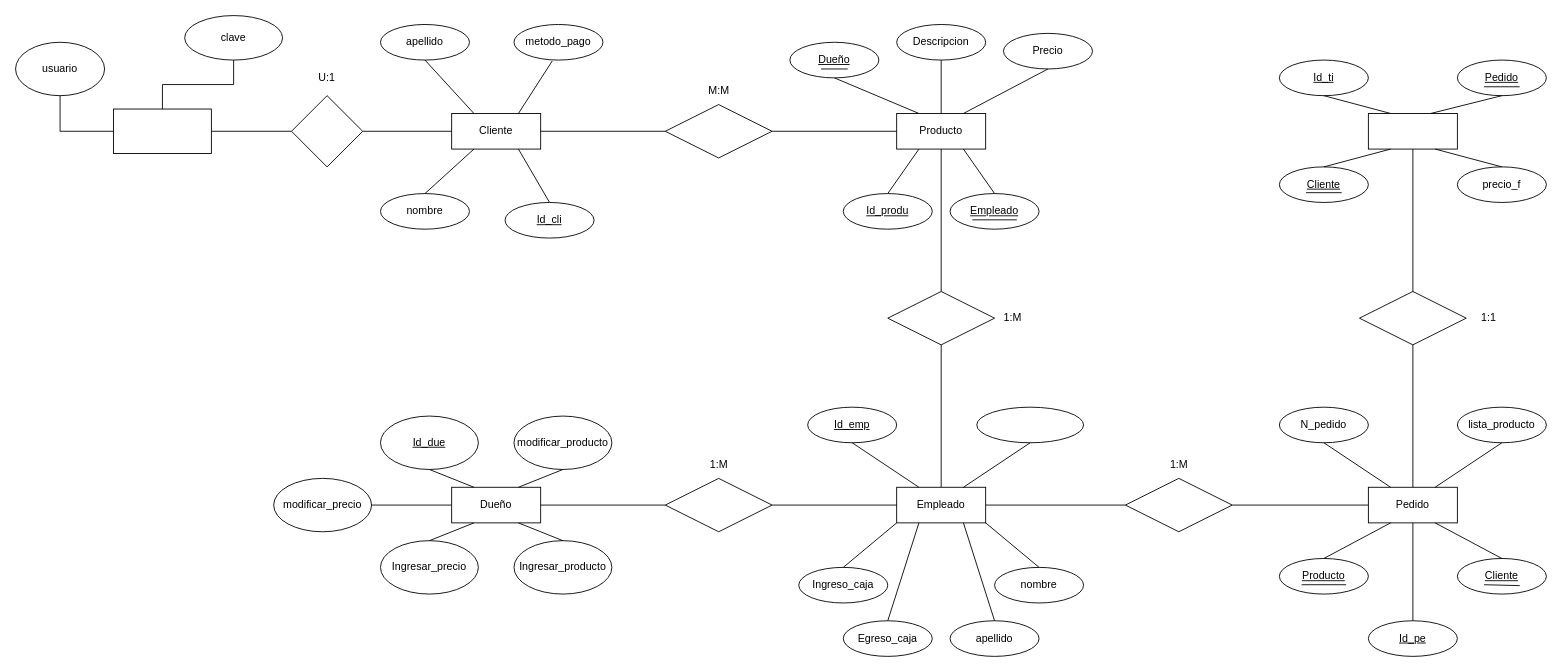
Image size: 1562x672. Some labels were removed from this diagram. The box of each missing label's shape, as (x1, y1, x2, y2) in pixels:
Adminisrrar: (887, 291, 995, 345)
Comprar: (664, 104, 772, 158)
Facturar: (1359, 291, 1466, 345)
Generar: (1125, 477, 1232, 532)
Gestionar: (664, 477, 772, 532)
Informe_falta_ventas: (976, 406, 1084, 443)
login: (291, 95, 363, 167)
Tickect: (1367, 113, 1457, 149)
Usser: (113, 108, 211, 154)
